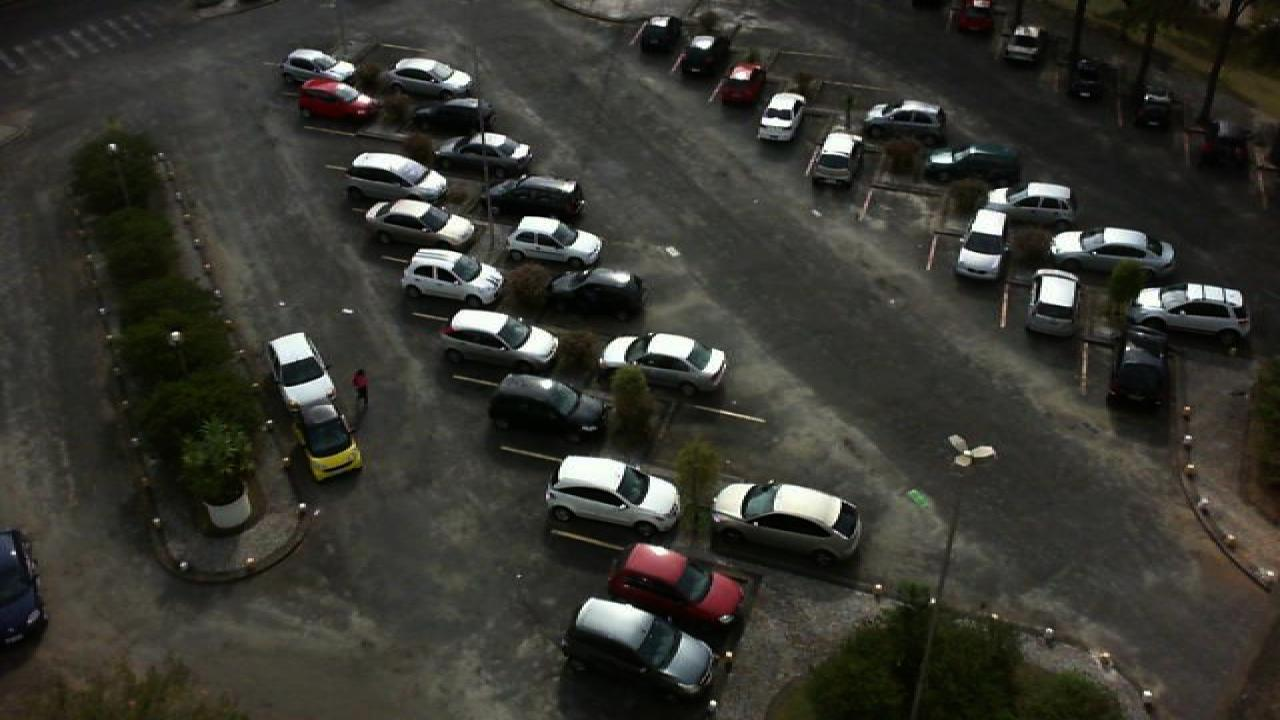Car: (558, 596, 718, 703), (712, 479, 864, 566), (606, 542, 750, 628), (546, 454, 682, 539), (486, 372, 608, 442), (596, 332, 730, 395), (440, 308, 562, 375), (1130, 281, 1252, 340), (290, 402, 366, 484), (264, 331, 336, 417), (1050, 226, 1176, 275), (400, 247, 506, 305), (362, 198, 478, 249), (0, 528, 48, 646), (544, 266, 646, 320), (502, 215, 604, 268), (342, 152, 448, 202), (1104, 323, 1166, 405), (434, 130, 532, 174), (954, 207, 1012, 281), (984, 181, 1078, 224), (490, 174, 586, 216), (860, 99, 950, 141), (402, 96, 496, 136), (1024, 269, 1080, 336), (924, 143, 1022, 181), (296, 78, 380, 122), (388, 57, 478, 96), (278, 49, 360, 84), (1194, 118, 1248, 169), (806, 132, 856, 186), (756, 92, 806, 144), (712, 61, 764, 109), (678, 32, 730, 76), (632, 15, 682, 58), (1066, 56, 1106, 99), (1000, 24, 1044, 62), (1136, 91, 1176, 128), (952, 0, 994, 34)
